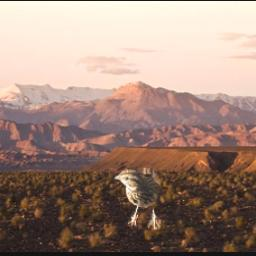Sparrow: (113, 169, 162, 230)
